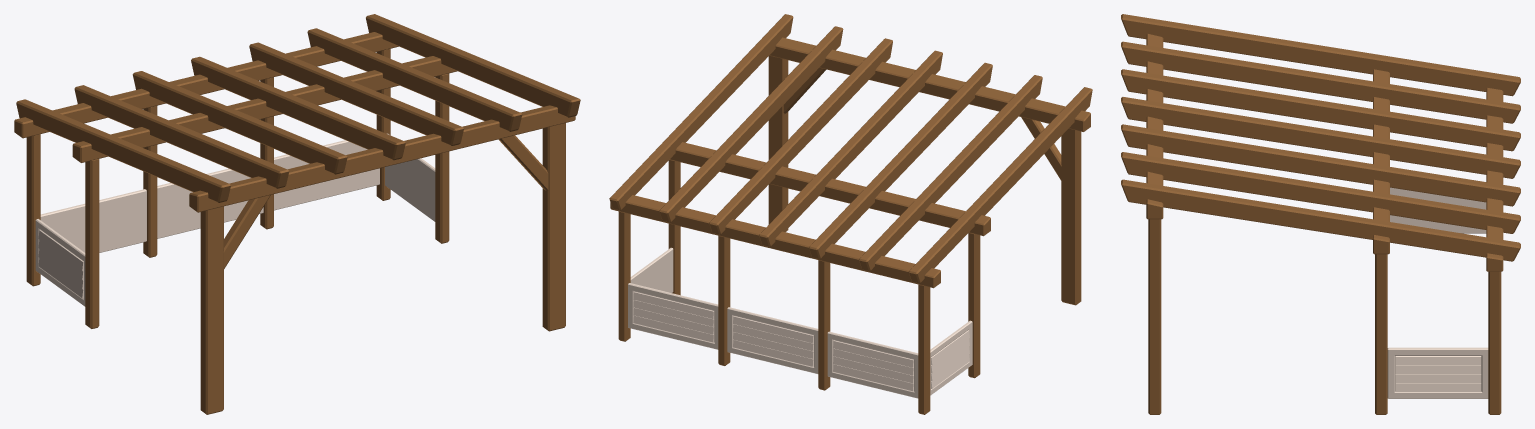
The model's file is structures_c.gltf.
The picture shows the model from 3 angles, left to right: view 1: azimuth 30°, elevation 25°; view 2: azimuth 150°, elevation 25°; view 3: azimuth 270°, elevation 25°; orthographic projection. The views are drawn at different scales.
Visible parts, largest first — view 1: structures_c001; view 2: structures_c001; view 3: structures_c001.
Boxes of the visible parts, left/top/right/bottom form: structures_c001: left=14, top=14, right=580, bottom=414; structures_c001: left=609, top=14, right=1092, bottom=414; structures_c001: left=1121, top=14, right=1520, bottom=414.
Bounding box in the file's own units: 5 × 3.02 × 4.71.
1 material, 1 textured.
